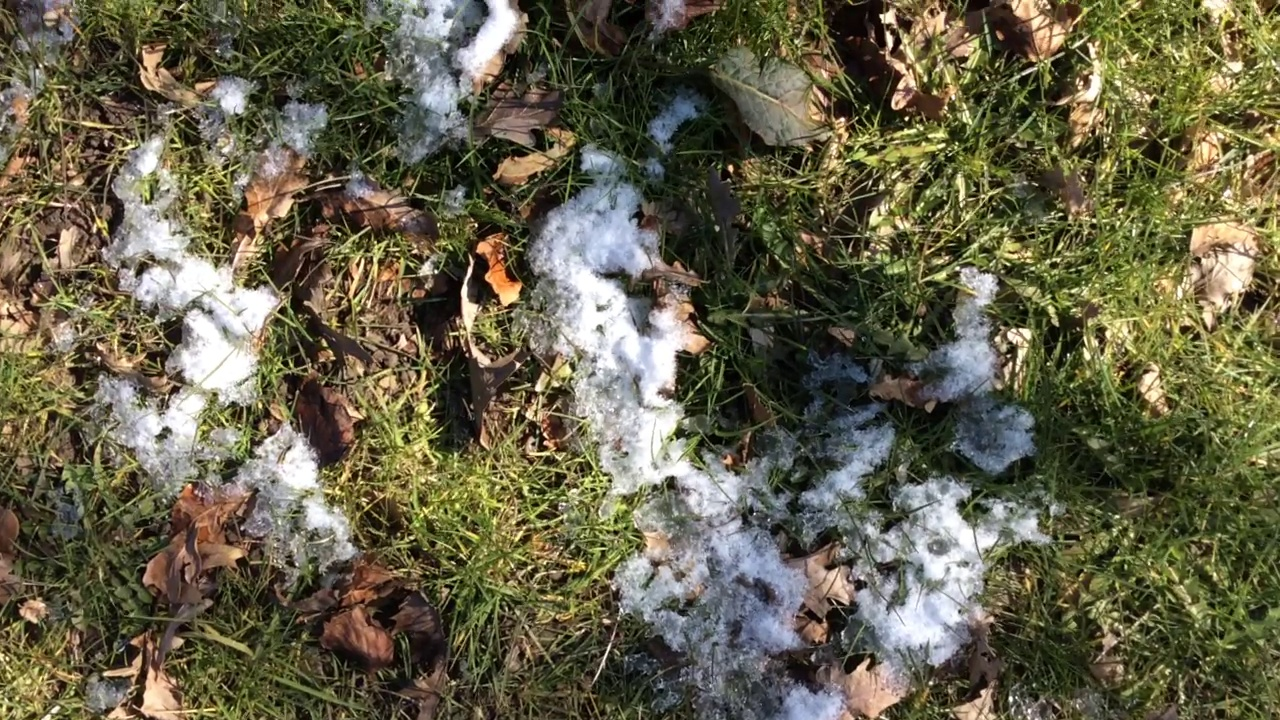root: (645, 47, 710, 100)
rumex: (658, 28, 844, 168)
